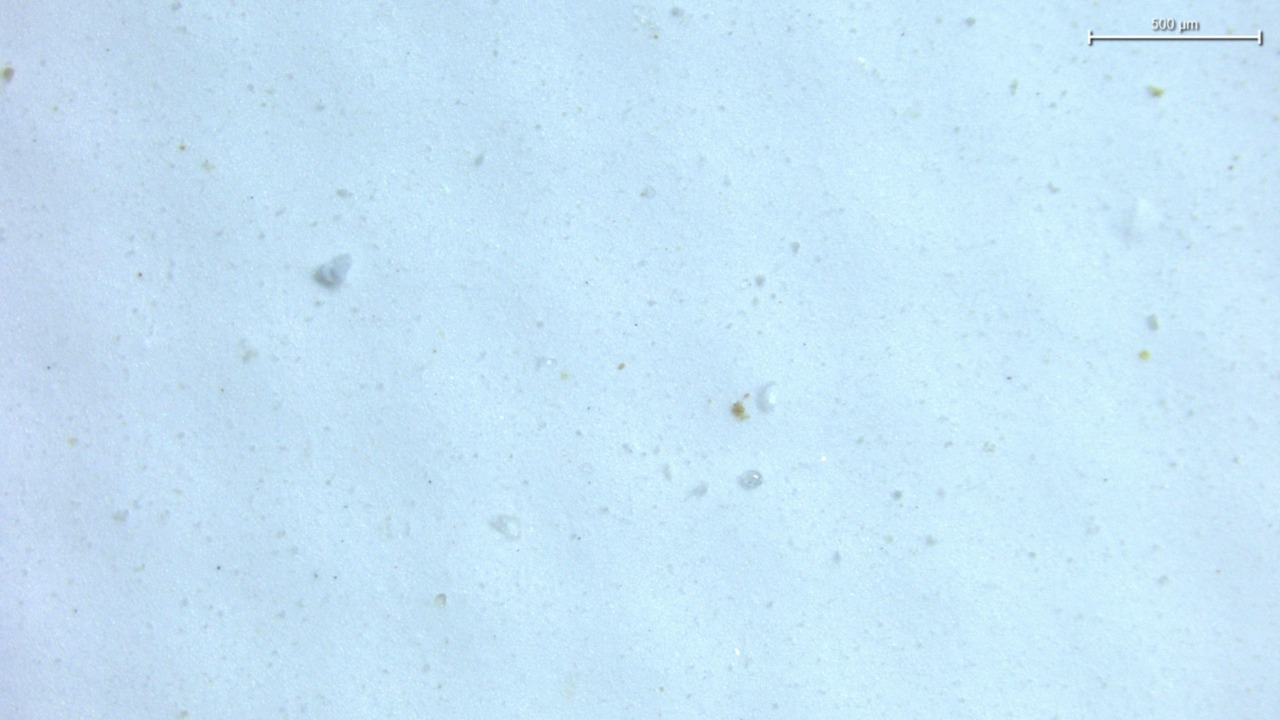microplastic_fragment: (312, 254, 351, 289), (738, 471, 763, 489)
